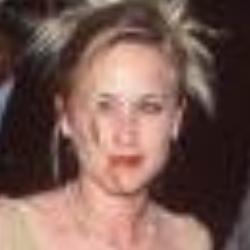face: (28, 3, 203, 204)
